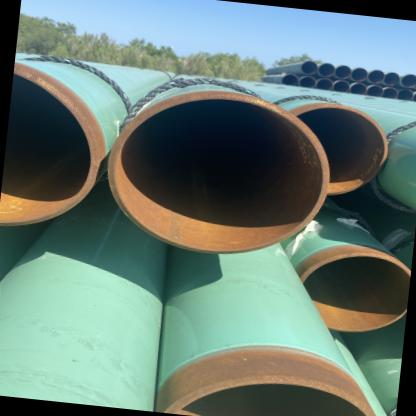clean: (201, 84, 229, 113)
